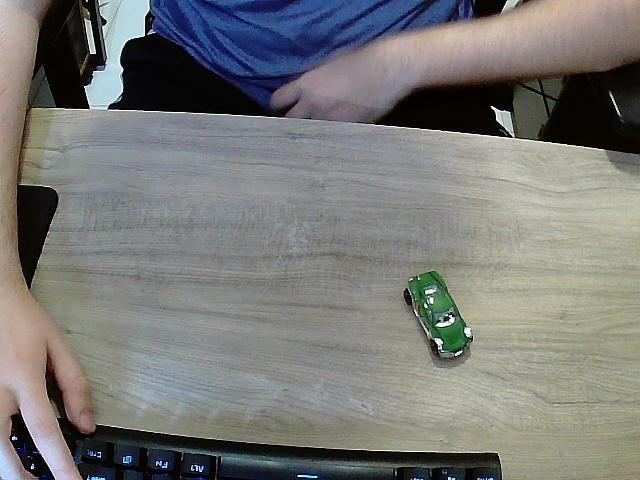Carro: (406, 272, 474, 365)
